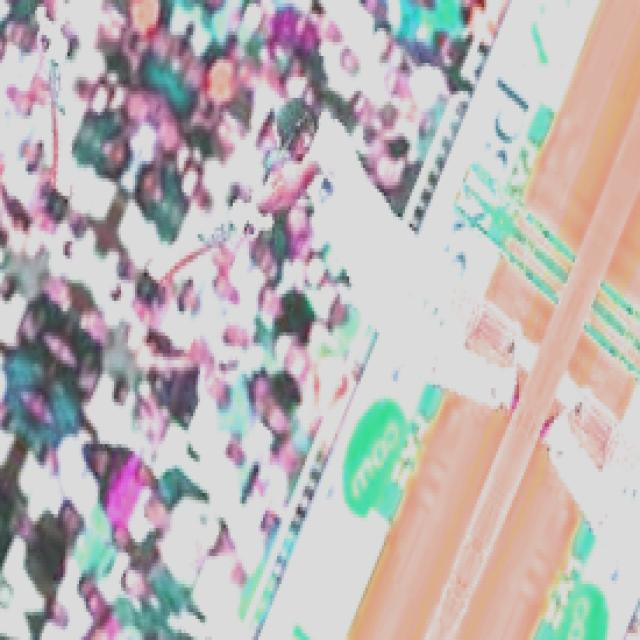toe: (140, 266, 170, 292)
